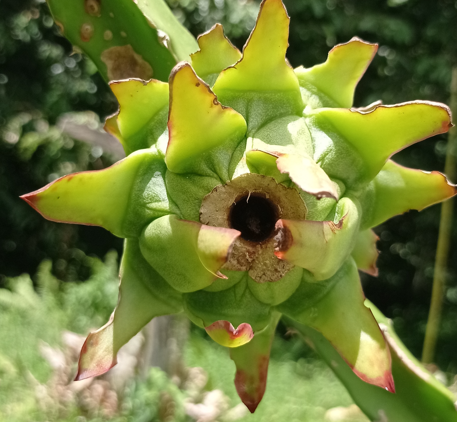Belum Matang: (75, 49, 444, 342)
